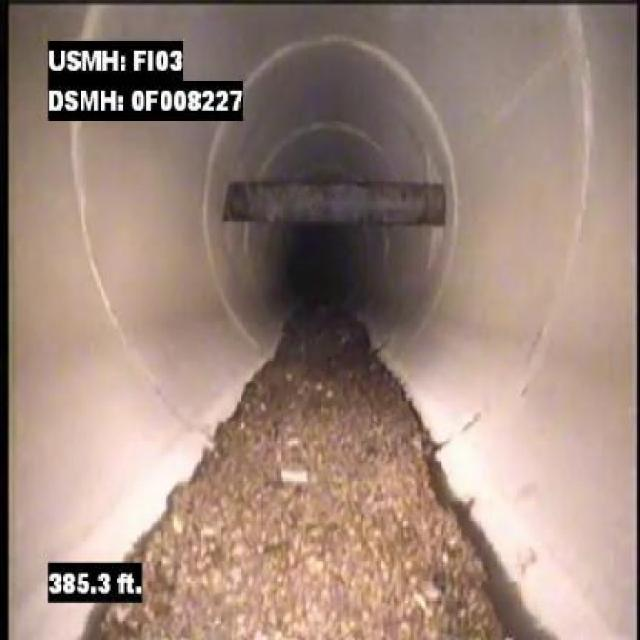Debris: (143, 403, 465, 554)
